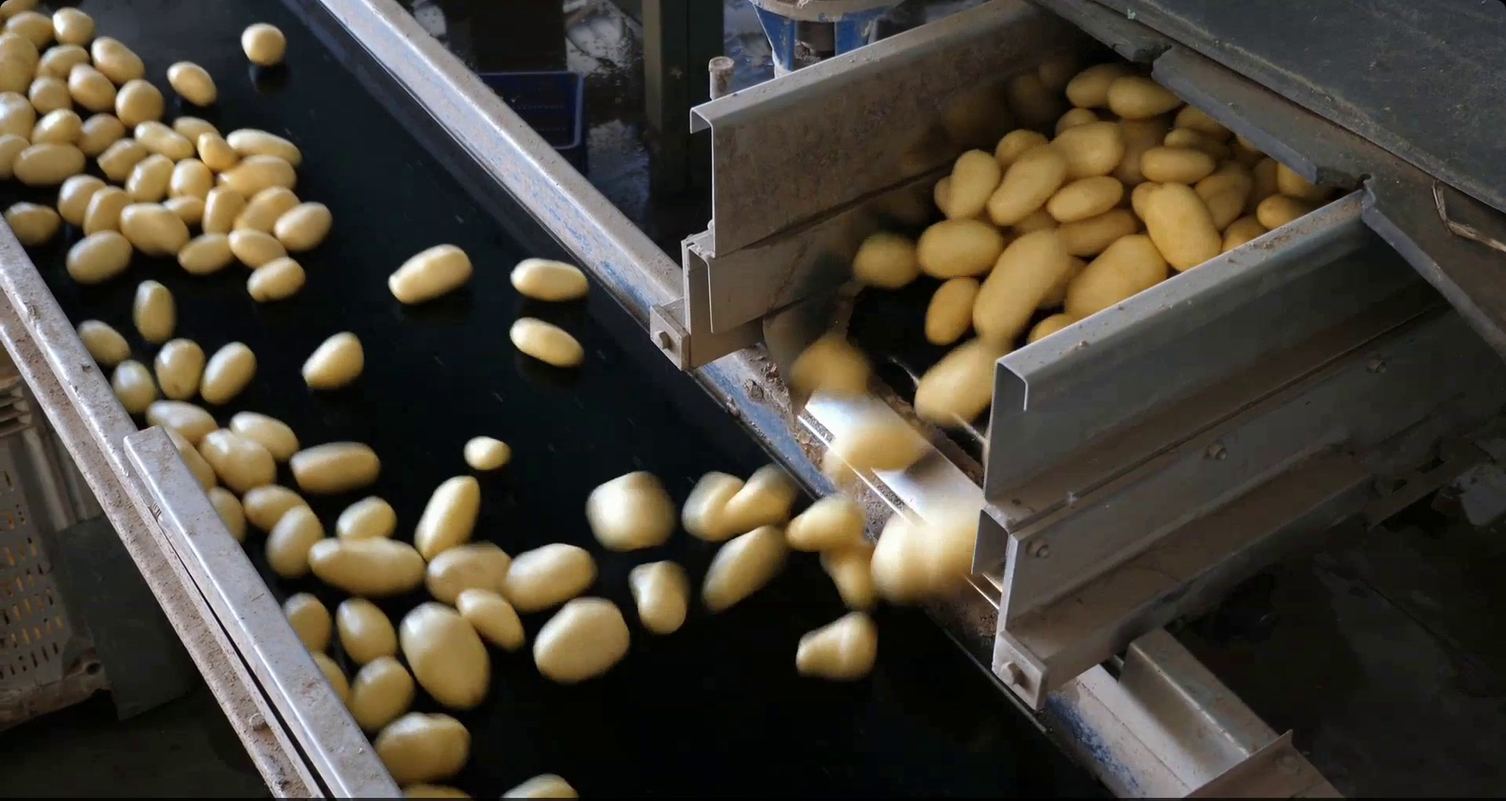potato: (864, 487, 999, 605), (965, 223, 1071, 346), (397, 597, 490, 713), (907, 333, 1018, 429), (526, 591, 633, 682), (1065, 233, 1175, 320), (820, 411, 938, 491), (581, 461, 680, 553), (369, 704, 475, 781), (700, 526, 795, 611), (306, 531, 429, 596), (795, 605, 889, 688), (1144, 179, 1227, 273), (501, 535, 599, 614), (984, 142, 1068, 228), (411, 470, 486, 565), (380, 237, 477, 308), (788, 328, 875, 404), (423, 537, 518, 605), (344, 649, 422, 729), (911, 213, 1006, 277), (780, 491, 873, 556), (285, 435, 385, 494), (198, 424, 280, 494), (1043, 119, 1126, 188), (719, 459, 799, 528), (296, 323, 372, 395), (504, 308, 590, 371), (676, 464, 744, 543), (817, 534, 889, 608), (453, 585, 529, 652), (628, 557, 692, 636), (334, 594, 402, 668), (263, 502, 328, 578), (1104, 63, 1187, 121), (921, 274, 982, 350), (944, 144, 999, 228), (238, 477, 314, 535), (849, 224, 920, 286), (1197, 158, 1253, 232), (1055, 205, 1149, 249), (63, 227, 135, 284), (507, 255, 592, 303), (198, 337, 258, 405), (280, 589, 337, 659), (228, 406, 301, 460), (333, 491, 407, 544), (151, 333, 207, 403), (1046, 172, 1126, 221), (86, 30, 150, 89), (163, 425, 219, 492), (489, 763, 586, 801), (1139, 141, 1219, 187), (246, 249, 307, 308), (131, 274, 178, 350), (143, 397, 220, 443), (9, 140, 91, 183), (118, 201, 184, 254), (1061, 53, 1119, 113), (273, 198, 336, 253), (107, 355, 158, 420), (119, 150, 178, 206), (173, 227, 238, 277), (236, 183, 302, 232), (93, 133, 150, 189), (223, 125, 311, 161), (215, 153, 300, 190), (79, 184, 136, 239), (237, 15, 291, 72), (225, 225, 291, 271), (162, 56, 220, 108), (73, 314, 130, 366), (112, 75, 167, 128), (54, 172, 110, 223), (1, 28, 41, 99), (308, 646, 352, 708), (457, 429, 515, 476), (2, 198, 60, 245), (67, 58, 117, 112), (1118, 111, 1155, 183), (204, 482, 246, 545), (132, 118, 193, 160), (989, 125, 1047, 169), (1020, 309, 1079, 352), (35, 34, 92, 78), (30, 104, 84, 150), (75, 111, 128, 157), (2, 81, 38, 147), (27, 70, 75, 118), (1044, 252, 1085, 308), (169, 153, 220, 198), (2, 10, 58, 49), (1273, 161, 1327, 200), (1253, 190, 1306, 229), (205, 182, 242, 237), (169, 110, 224, 147), (2, 123, 33, 187), (49, 6, 97, 47), (1052, 106, 1104, 143), (1216, 212, 1262, 252), (402, 777, 478, 801), (196, 128, 241, 168), (1169, 103, 1225, 135), (158, 193, 213, 223), (1129, 179, 1163, 227), (1007, 205, 1053, 236), (1248, 154, 1286, 190), (1162, 121, 1200, 153), (929, 170, 951, 220), (1, 2, 48, 15), (1231, 135, 1259, 151)
